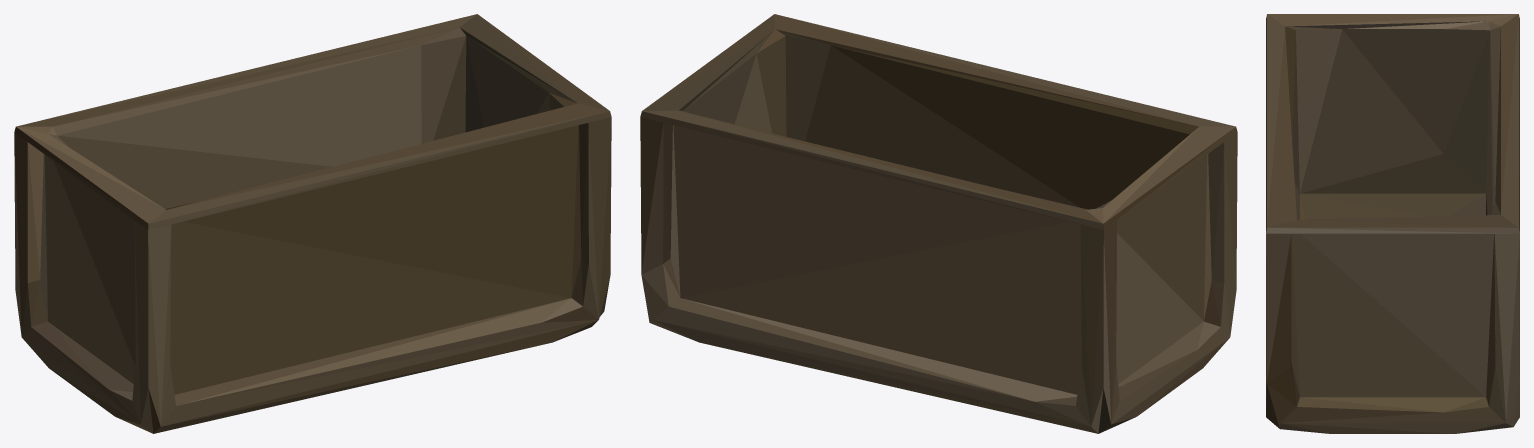
File: CrateC_Bottom.fbx
The picture shows the model from 3 angles, left to right: view 1: azimuth 30°, elevation 25°; view 2: azimuth 150°, elevation 25°; view 3: azimuth 270°, elevation 25°; orthographic projection. The views are drawn at different scales.
Parts seen in each view (by area): view 1: CrateC_Bottom; view 2: CrateC_Bottom; view 3: CrateC_Bottom.
Boxes of the visible parts, x1=… form: CrateC_Bottom: x1=14, y1=14, x2=611, y2=433; CrateC_Bottom: x1=640, y1=14, x2=1237, y2=433; CrateC_Bottom: x1=1266, y1=14, x2=1519, y2=433.
Bounding box in the file's own units: 200 × 90 × 100.
